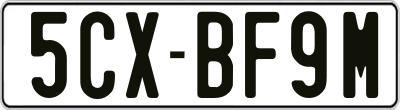5: (28, 11, 64, 98)
9: (290, 10, 329, 99)
B: (195, 12, 231, 101)
C: (80, 9, 121, 99)
F: (245, 9, 282, 96)
M: (341, 9, 376, 97)
X: (126, 9, 162, 101)
